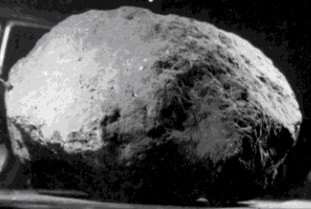Basalt: (23, 24, 302, 189)
